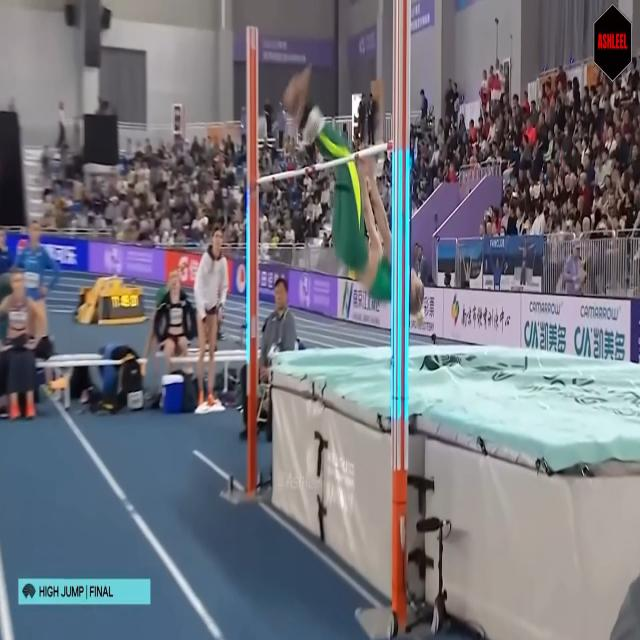land: (282, 61, 420, 314)
